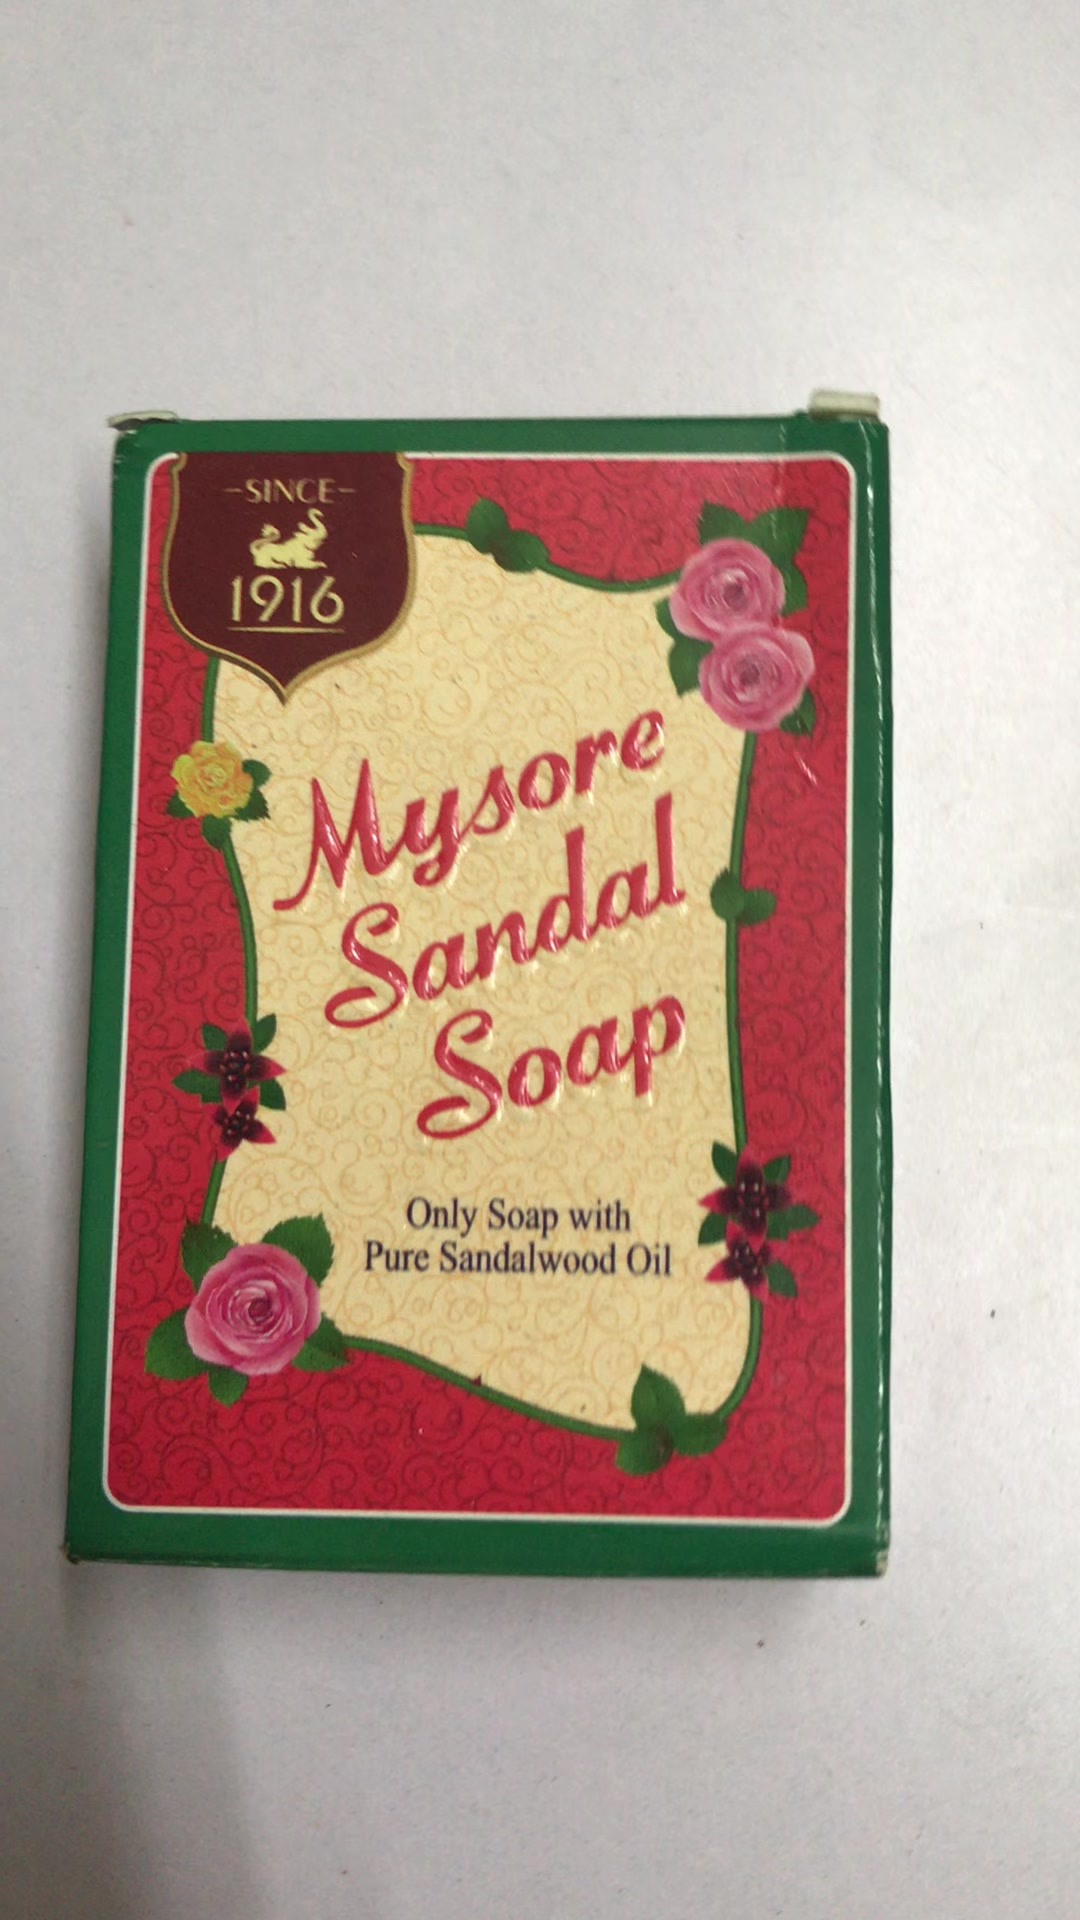mysore sandal soap: (80, 413, 878, 1561)
